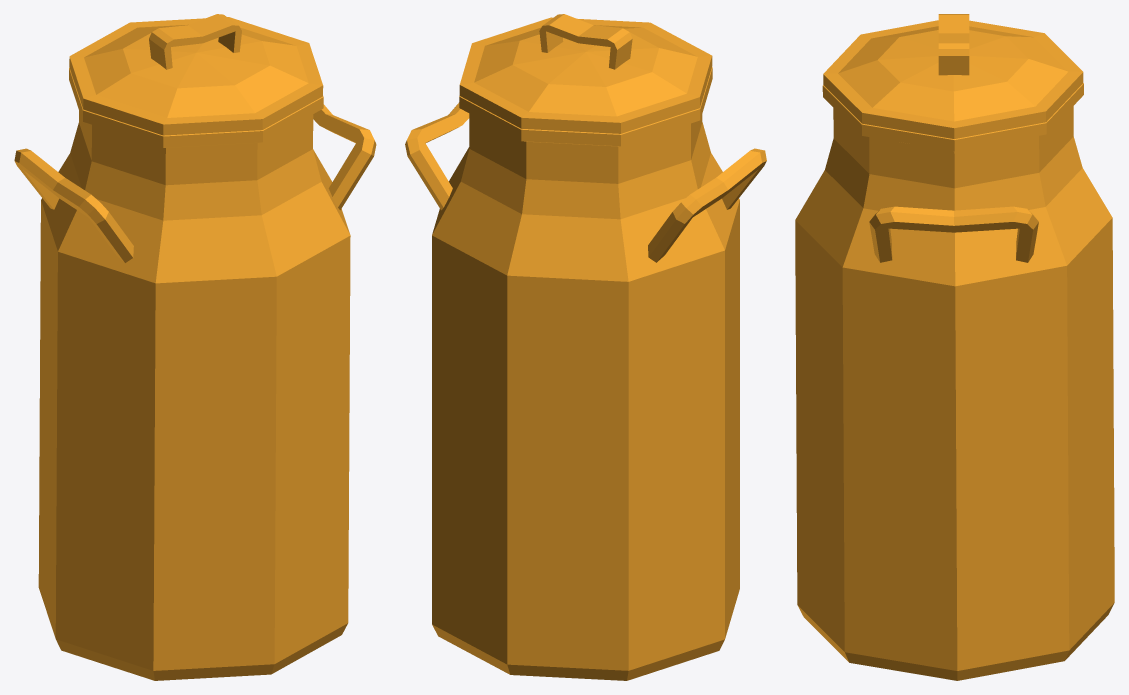
File: SM_Jug_Milk_Metal_B.fbx
3 views of the same model, side by side, from view 1: azimuth 30°, elevation 25°; view 2: azimuth 150°, elevation 25°; view 3: azimuth 270°, elevation 25° (orthographic).
Parts seen in each view (by area): view 1: milk-jug-metal-b-base, milk-jug-metal-b-lid; view 2: milk-jug-metal-b-base, milk-jug-metal-b-lid; view 3: milk-jug-metal-b-base, milk-jug-metal-b-lid.
Part boxes in pixels (<box>): milk-jug-metal-b-base: <box>14,67,376,680</box>; milk-jug-metal-b-lid: <box>69,14,323,135</box>; milk-jug-metal-b-base: <box>405,67,766,680</box>; milk-jug-metal-b-lid: <box>459,14,712,133</box>; milk-jug-metal-b-base: <box>795,83,1114,680</box>; milk-jug-metal-b-lid: <box>823,14,1083,138</box>.
Size of the model in its own units: 0.3954 by 0.7651 by 0.3767.
